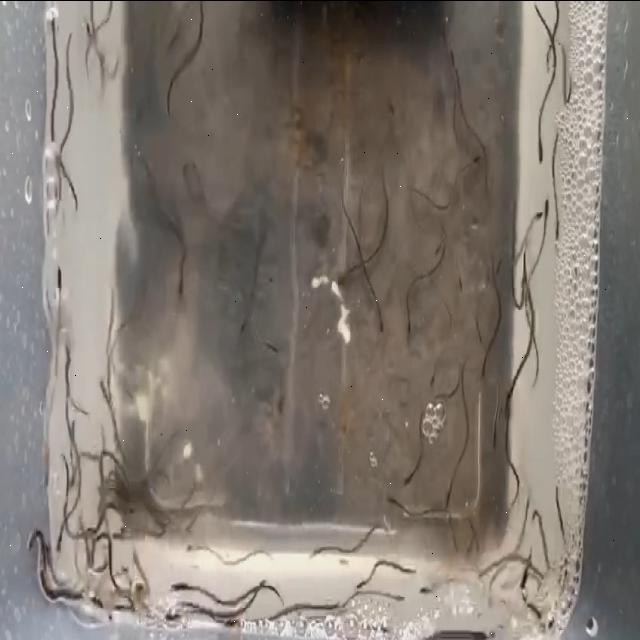inactive_glass_eel: (18, 511, 42, 583), (86, 581, 110, 624), (384, 478, 406, 520), (403, 452, 423, 496), (176, 266, 193, 316), (262, 332, 290, 362), (526, 202, 550, 235), (532, 114, 547, 164), (512, 570, 532, 606), (442, 42, 461, 76), (170, 568, 192, 596), (53, 261, 69, 299), (232, 308, 248, 346), (370, 308, 388, 341), (55, 512, 71, 548), (468, 144, 486, 176), (540, 186, 556, 222), (478, 351, 494, 387), (352, 572, 368, 606), (330, 266, 354, 288), (404, 316, 418, 352), (422, 366, 442, 390), (438, 488, 458, 512), (486, 425, 501, 457), (450, 272, 468, 298), (164, 608, 184, 630), (499, 385, 515, 409), (75, 21, 95, 39), (418, 582, 434, 604)
